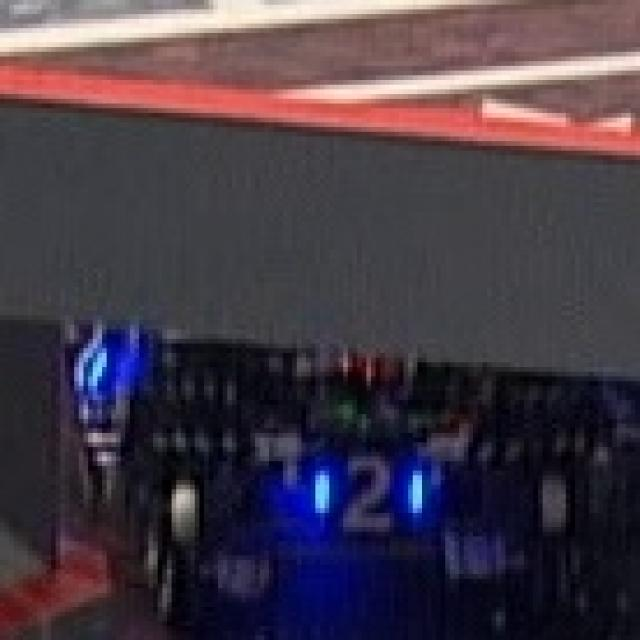B2: (310, 452, 426, 532)
